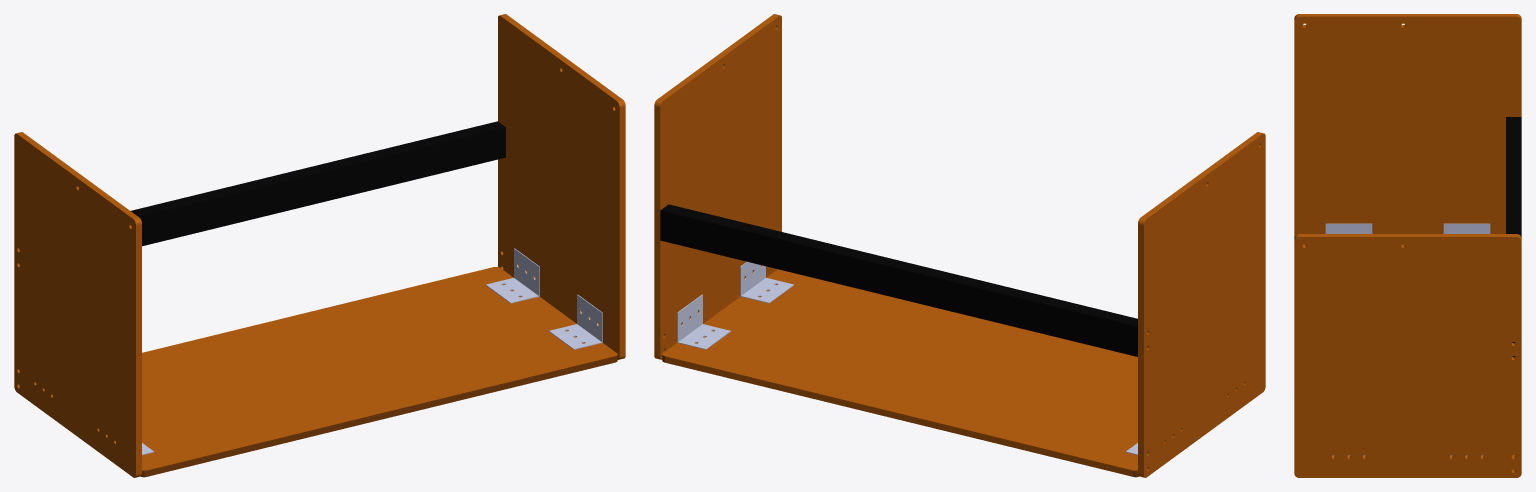
3 renders of one model, left to right at view 1: azimuth 30°, elevation 25°; view 2: azimuth 150°, elevation 25°; view 3: azimuth 270°, elevation 25°, orthographic. The views are drawn at different scales.
Visible parts, largest first — view 1: NAUO1, NAUO2, NAUO3, NAUO4, NAUO7, NAUO8; view 2: NAUO1, NAUO2, NAUO3, NAUO4, NAUO7, NAUO8; view 3: NAUO3, NAUO2, NAUO4, NAUO5, NAUO6.
Part boxes in pixels (x1,y1,x2,y2): NAUO1: (141, 267, 617, 477); NAUO2: (14, 132, 141, 477); NAUO3: (498, 14, 625, 359); NAUO4: (131, 121, 505, 246); NAUO7: (486, 248, 539, 303); NAUO8: (549, 294, 602, 349); NAUO1: (662, 269, 1138, 477); NAUO2: (1138, 132, 1265, 477); NAUO3: (654, 14, 781, 359); NAUO4: (660, 204, 1137, 356); NAUO7: (677, 294, 730, 349); NAUO8: (740, 261, 793, 303); NAUO3: (1294, 234, 1521, 477); NAUO2: (1294, 14, 1521, 244); NAUO4: (1506, 117, 1521, 357); NAUO5: (1443, 223, 1490, 233); NAUO6: (1325, 223, 1372, 233).
Size of the model in its own units: 0.6798 by 0.3429 by 0.2928.
